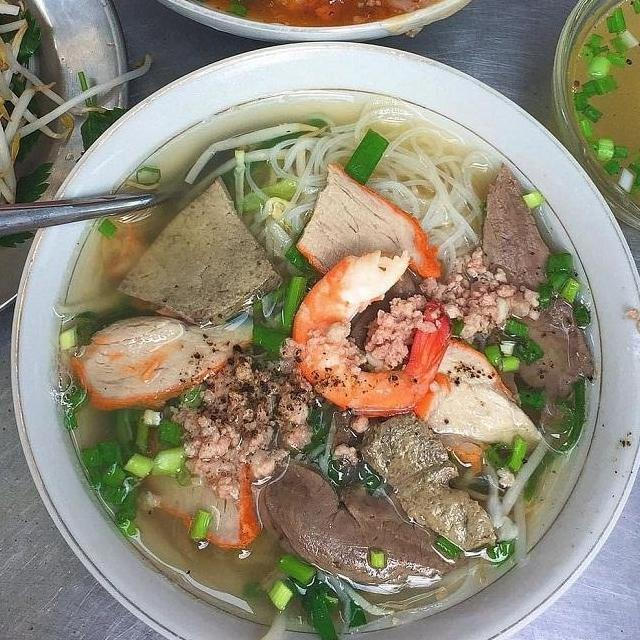banh hu tieu: (233, 84, 502, 281)
gan: (111, 169, 279, 333)
hu tieu: (10, 73, 640, 640)
thit bam: (162, 321, 332, 506), (360, 243, 545, 388)
thit heo: (467, 156, 599, 405), (391, 326, 552, 476), (58, 305, 267, 419), (286, 158, 453, 292), (139, 395, 268, 560)
tom: (281, 242, 458, 425)
